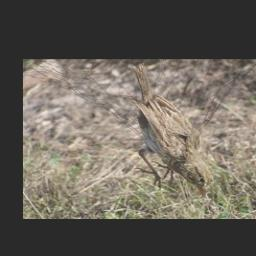Sparrow: (129, 61, 212, 199)
